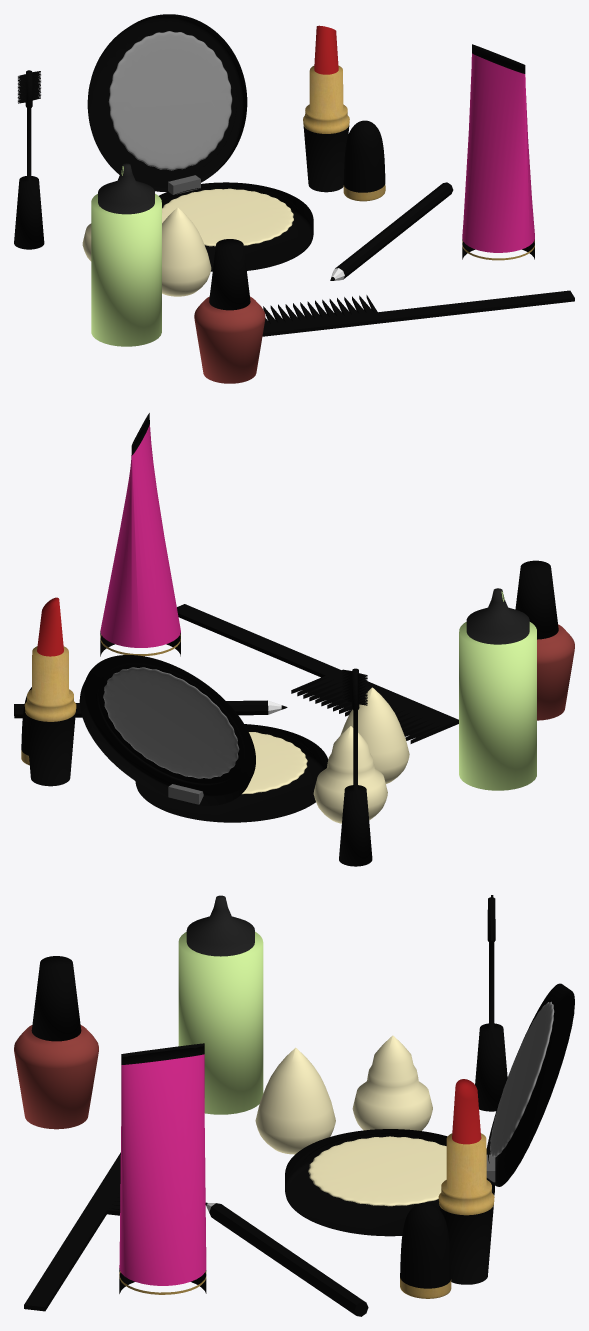
Rendered from makeup.glb.
The picture shows the model from 3 angles, top to bottom: view 1: azimuth 30°, elevation 25°; view 2: azimuth 150°, elevation 25°; view 3: azimuth 270°, elevation 25°; orthographic projection. The views are drawn at different scales.
Visible parts, largest first — view 1: makeup.001, Circle, bottle, mirror, lipstick, Plane.001, makeup, bottle.001, base, Cylinder, cap.001, Cylinder.002 (+3 smaller); view 2: bottle, Circle, makeup.001, mirror, lipstick, Plane.001, base, Cylinder.001, Cylinder, Cylinder.002, bottle.001, makeup (+2 smaller); view 3: Circle, bottle, makeup, lipstick, bottle.001, base, Cylinder, Cylinder.001, mirror, cap.001, makeup.001, Plane.001 (+3 smaller).
Boxes of the visible parts, x1,y1,x2,y2 form: makeup.001: [108, 31, 232, 170]; Circle: [462, 44, 534, 260]; bottle: [91, 163, 161, 346]; mirror: [87, 14, 247, 191]; lipstick: [303, 25, 349, 192]; Plane.001: [262, 290, 574, 336]; makeup: [162, 188, 293, 246]; bottle.001: [194, 296, 265, 383]; base: [159, 182, 313, 271]; Cylinder: [162, 207, 211, 296]; cap.001: [343, 120, 385, 201]; Cylinder.002: [14, 70, 44, 249]; bottle: [459, 588, 536, 790]; Circle: [100, 413, 180, 656]; makeup.001: [103, 667, 239, 778]; mirror: [79, 655, 255, 805]; lipstick: [24, 597, 76, 786]; Plane.001: [177, 604, 458, 743]; base: [135, 724, 328, 822]; Cylinder.001: [313, 726, 387, 823]; Cylinder: [340, 687, 409, 783]; Cylinder.002: [339, 668, 372, 866]; bottle.001: [537, 624, 574, 720]; makeup: [242, 732, 307, 794]; Circle: [119, 1043, 206, 1294]; bottle: [178, 895, 263, 1114]; makeup: [308, 1136, 446, 1206]; lipstick: [438, 1079, 494, 1284]; bottle.001: [14, 1025, 98, 1129]; base: [285, 1129, 494, 1236]; Cylinder: [255, 1047, 335, 1154]; Cylinder.001: [352, 1035, 432, 1130]; mirror: [486, 983, 574, 1186]; cap.001: [400, 1202, 451, 1298]; makeup.001: [490, 1001, 554, 1157]; Plane.001: [24, 1152, 120, 1311].
Bounding box in the file's own units: 253 × 124 × 249.
17 materials, 2 textured.
